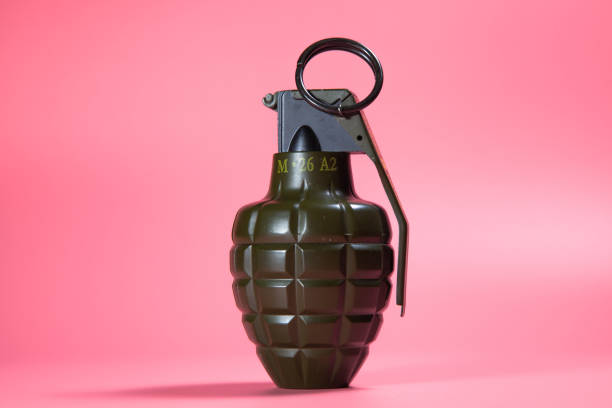e1: (225, 41, 412, 390)
